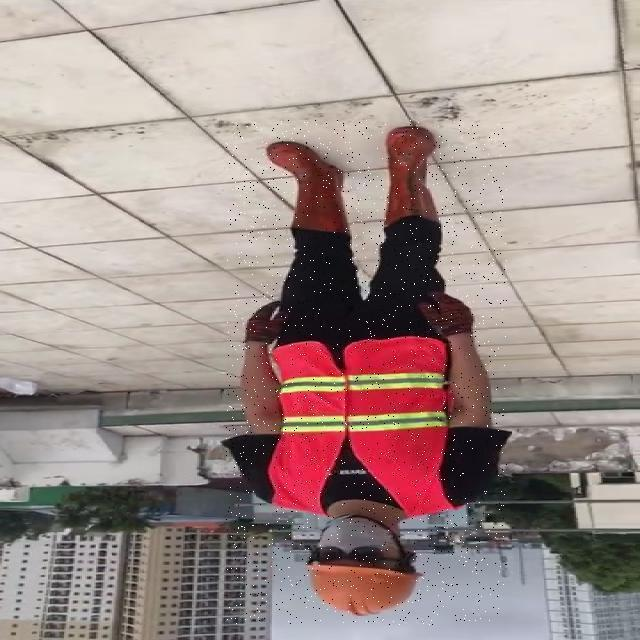gloves: (424, 290, 476, 334), (239, 302, 293, 342)
